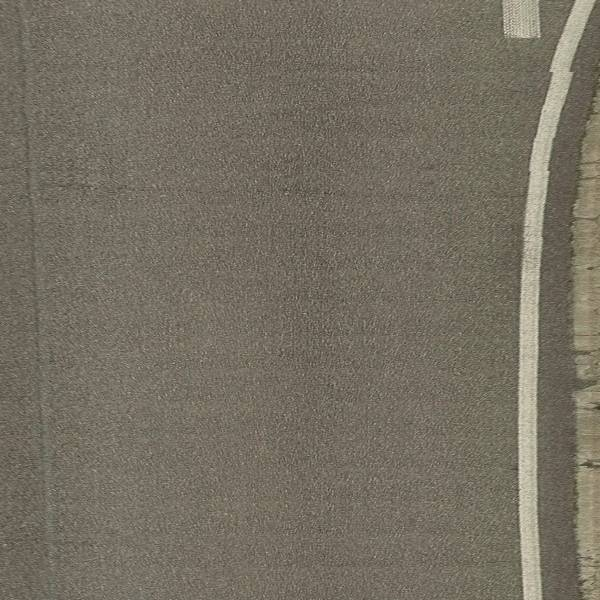road_damage: (54, 178, 456, 212)
